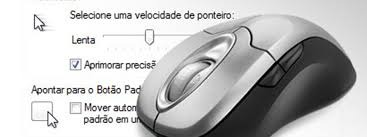mouse: (137, 14, 357, 137)
